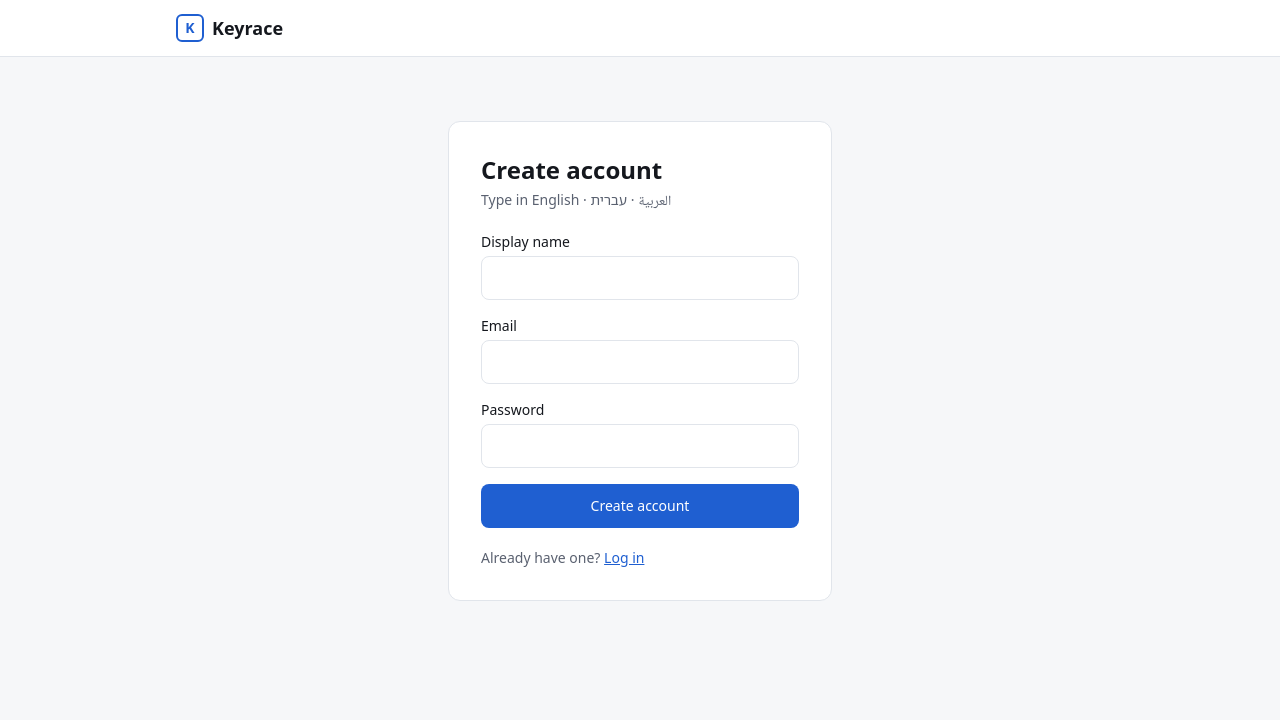
Test: auth flow › says under the email field when the address already has an account
Type "Nell" into the field labelled "Display name" at (640, 278), box x1=481 y1=256 x2=799 y2=300
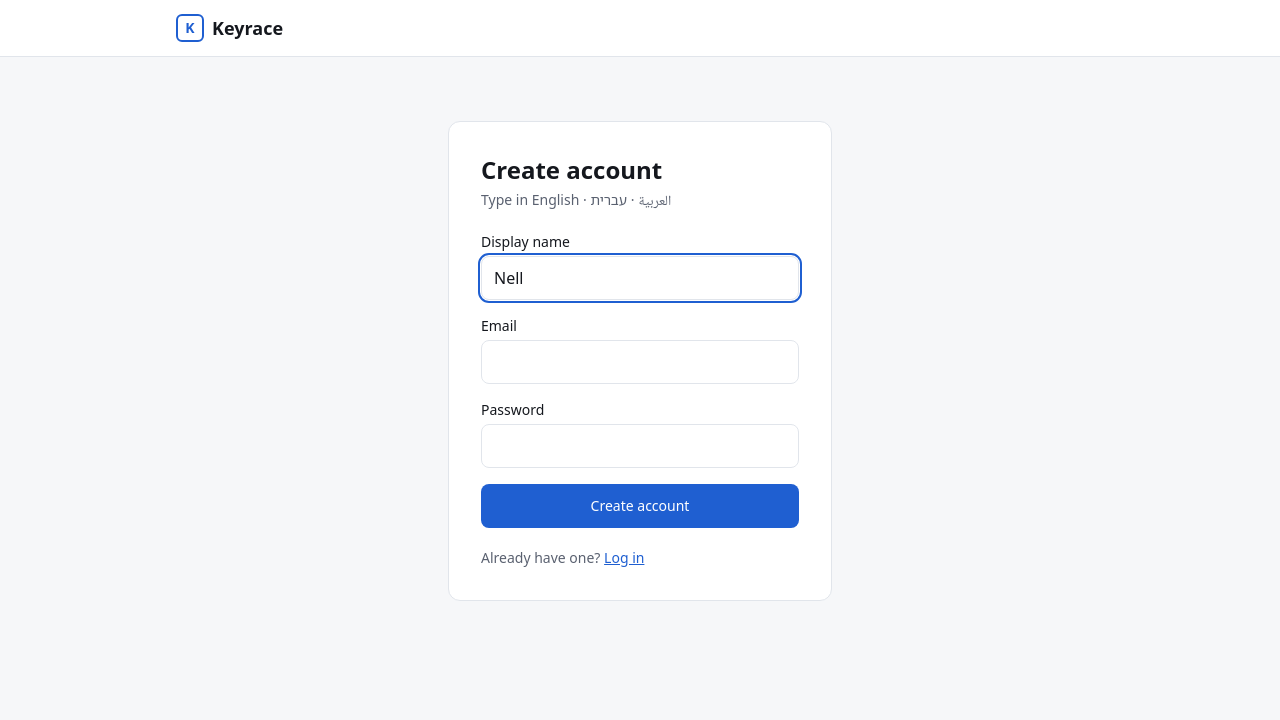
Type "nell@example.com" into the field labelled "Email" at (640, 362), box x1=481 y1=340 x2=799 y2=384
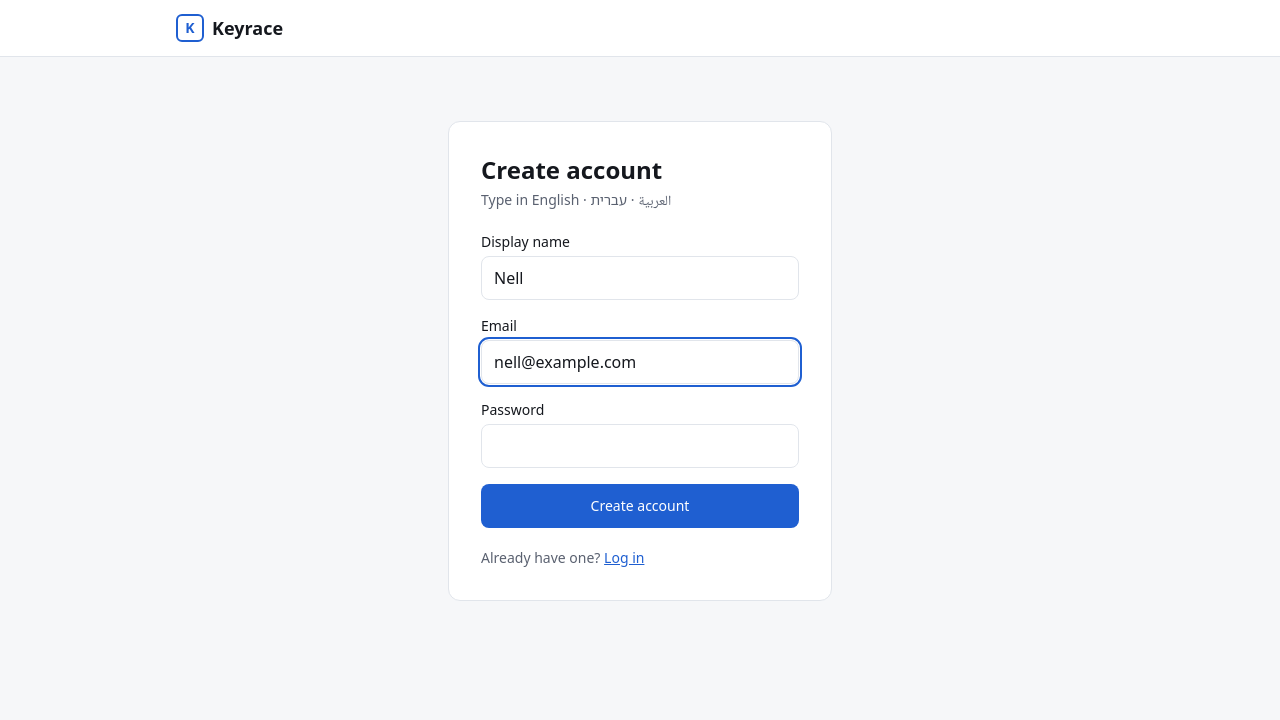
Type "correct horse battery" into the password field labelled "Password" at (640, 446), box x1=481 y1=424 x2=799 y2=468
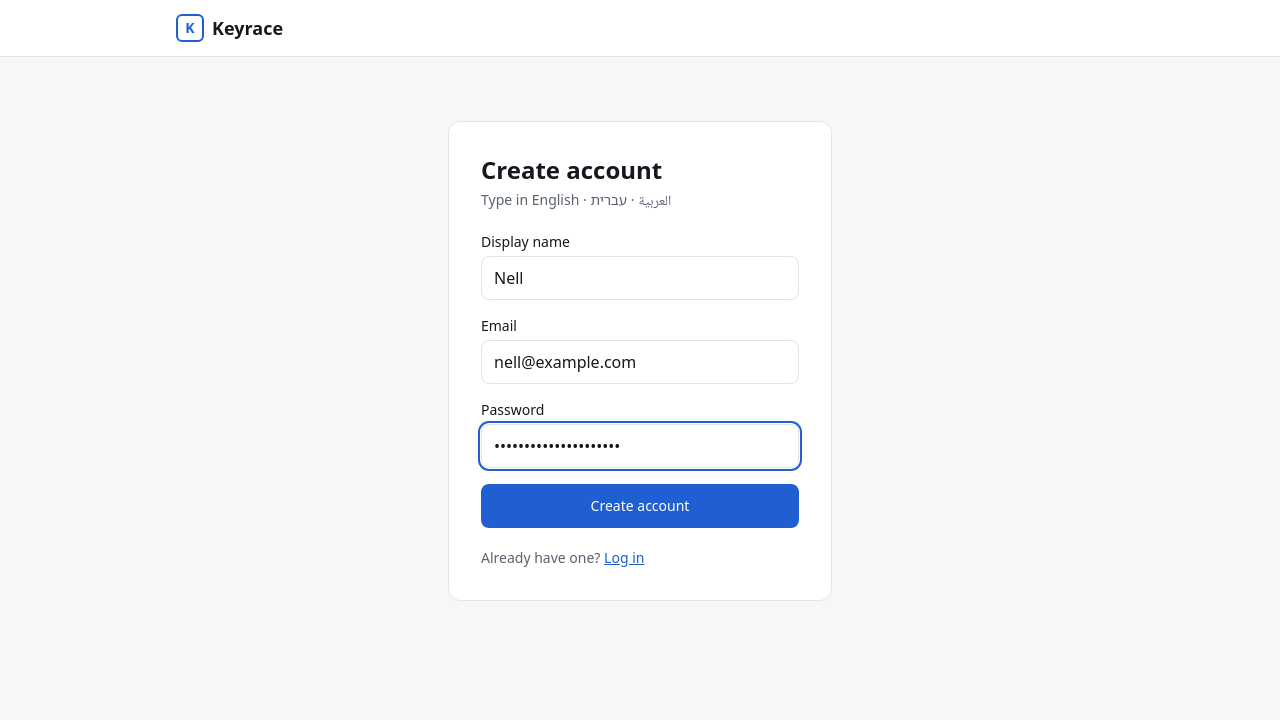
Click the button "Create account" at (640, 506), box x1=481 y1=484 x2=799 y2=528
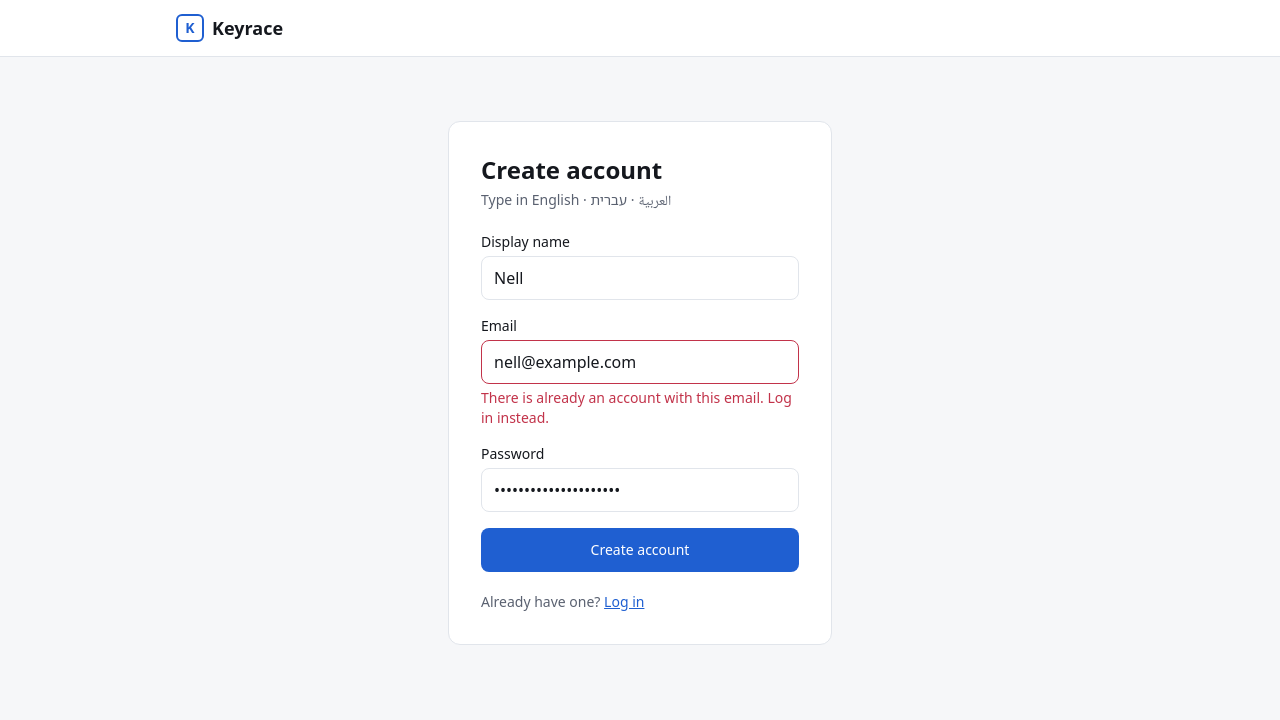
Check: the message shows "There is already an account with this email.", box x1=481 y1=388 x2=792 y2=427
